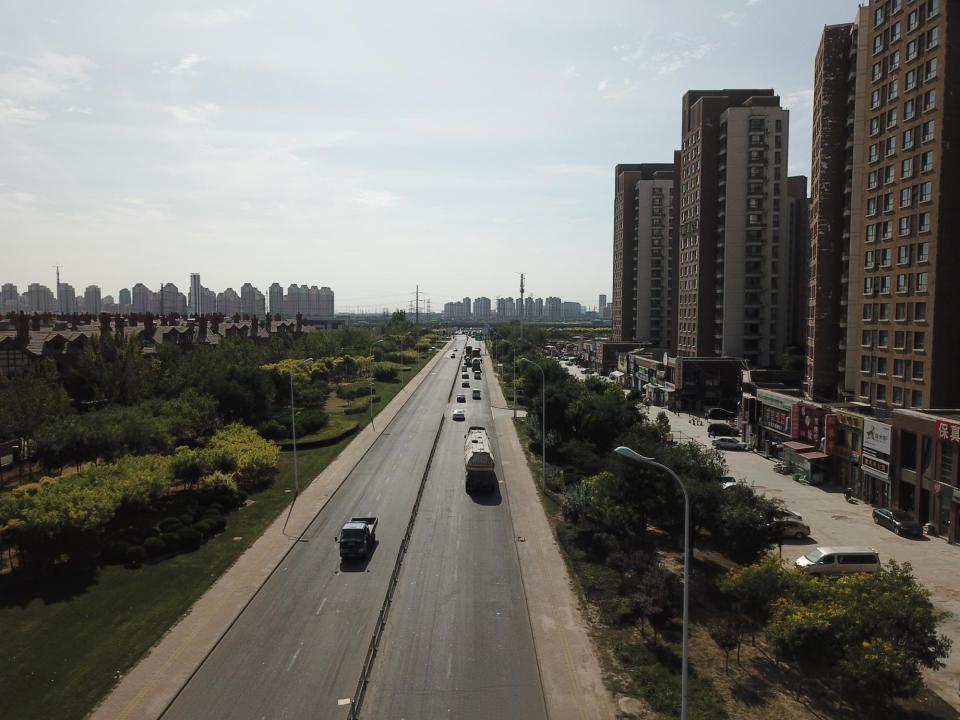car: (749, 515, 811, 542), (871, 507, 924, 536), (747, 505, 803, 528), (712, 436, 747, 451), (708, 422, 740, 436), (706, 408, 735, 419), (452, 408, 466, 420), (608, 373, 623, 380), (464, 354, 472, 365), (581, 368, 595, 374), (461, 379, 471, 387), (456, 394, 466, 402), (461, 372, 469, 378), (565, 360, 573, 366), (560, 356, 569, 361), (450, 352, 455, 359), (453, 346, 458, 352)
truck: (463, 426, 496, 494), (334, 516, 378, 561), (471, 356, 481, 371), (471, 348, 480, 358), (465, 345, 472, 356), (460, 365, 466, 372)
van: (794, 545, 882, 585), (471, 389, 481, 399), (473, 371, 481, 380)
